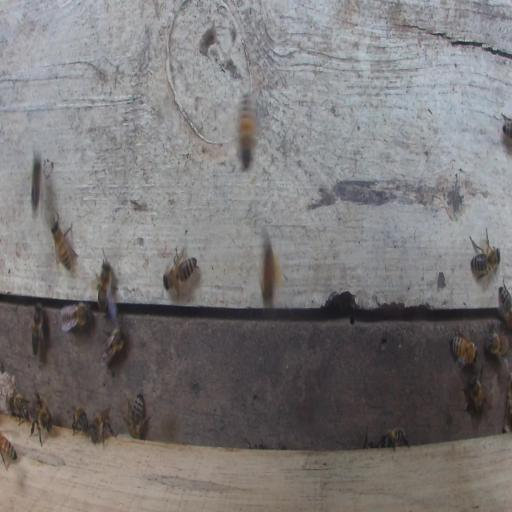nonpollenbee: (162, 247, 198, 300), (469, 228, 500, 287), (50, 216, 78, 272), (238, 93, 257, 167), (97, 256, 118, 318), (123, 393, 147, 440), (463, 373, 489, 413), (450, 331, 478, 367), (101, 324, 125, 366), (60, 302, 94, 331), (89, 409, 114, 448), (484, 326, 509, 358), (31, 302, 45, 358), (31, 150, 42, 217), (10, 391, 31, 425), (0, 431, 18, 470), (380, 427, 410, 450), (498, 282, 511, 329), (30, 407, 52, 434), (71, 406, 89, 435), (501, 111, 512, 138)
pollenbee: (255, 220, 283, 309)
